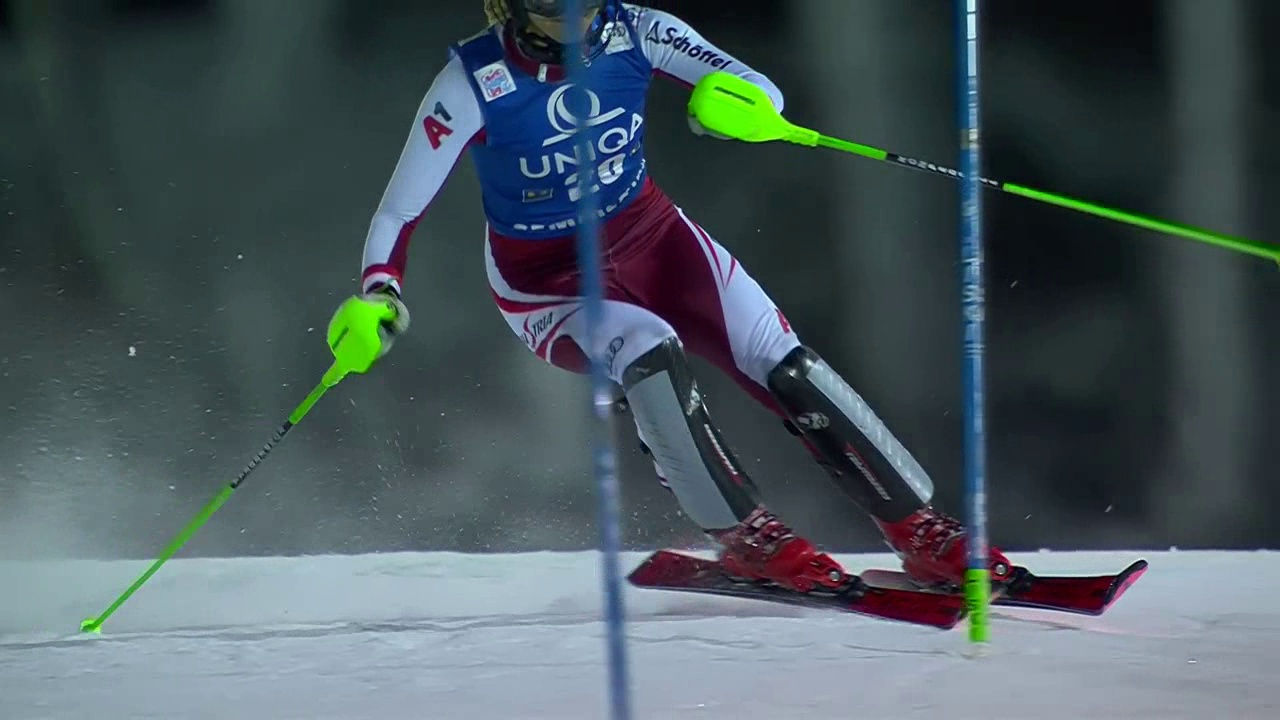a1: (419, 101, 461, 156)
uniqa: (520, 80, 634, 186)
